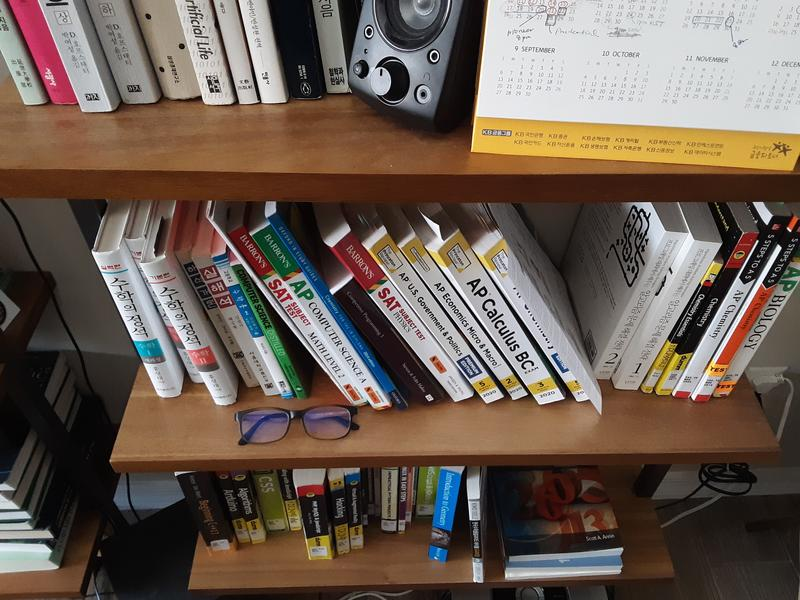glasses: (232, 403, 361, 446)
